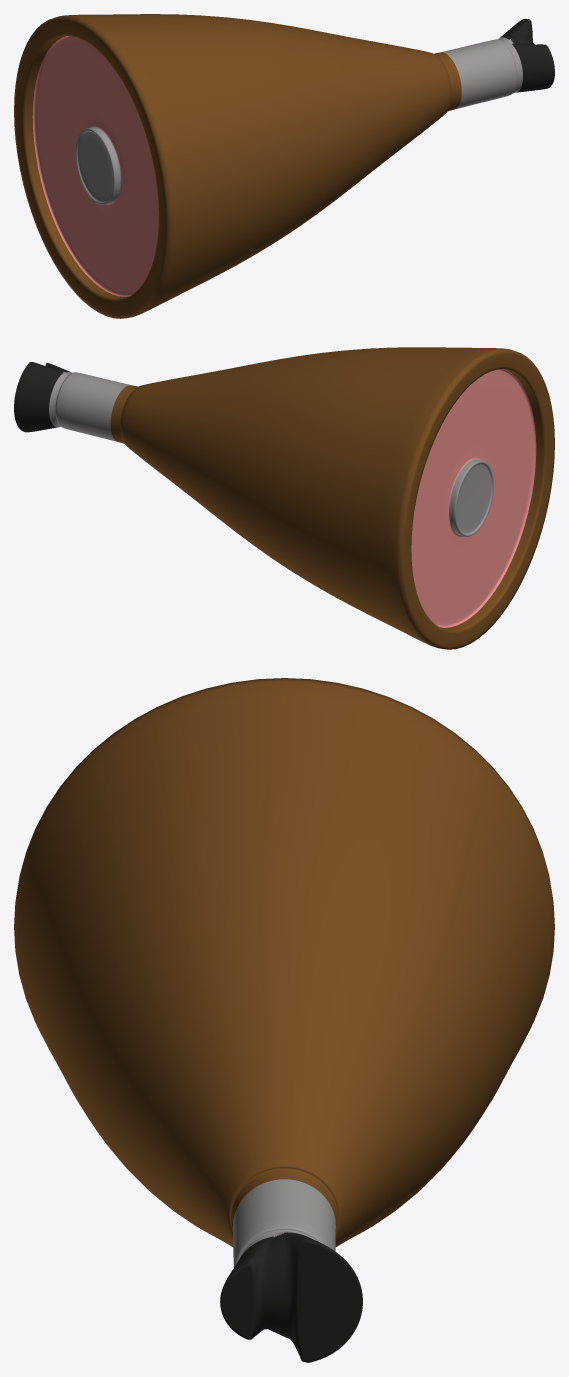
File: Meat.fbx
3 renders of one model, top to bottom at view 1: azimuth 30°, elevation 25°; view 2: azimuth 150°, elevation 25°; view 3: azimuth 270°, elevation 25°, orthographic. The views are drawn at different scales.
Visible parts, largest first — view 1: Meat; view 2: Meat; view 3: Meat.
Part boxes in pixels (x1=…): Meat: x1=14, y1=14, x2=554, y2=318; Meat: x1=14, y1=347, x2=554, y2=649; Meat: x1=14, y1=678, x2=554, y2=1362.
Bounding box in the file's own units: 1368 × 822 × 822.
Materials: 1 (1 with a texture image).
